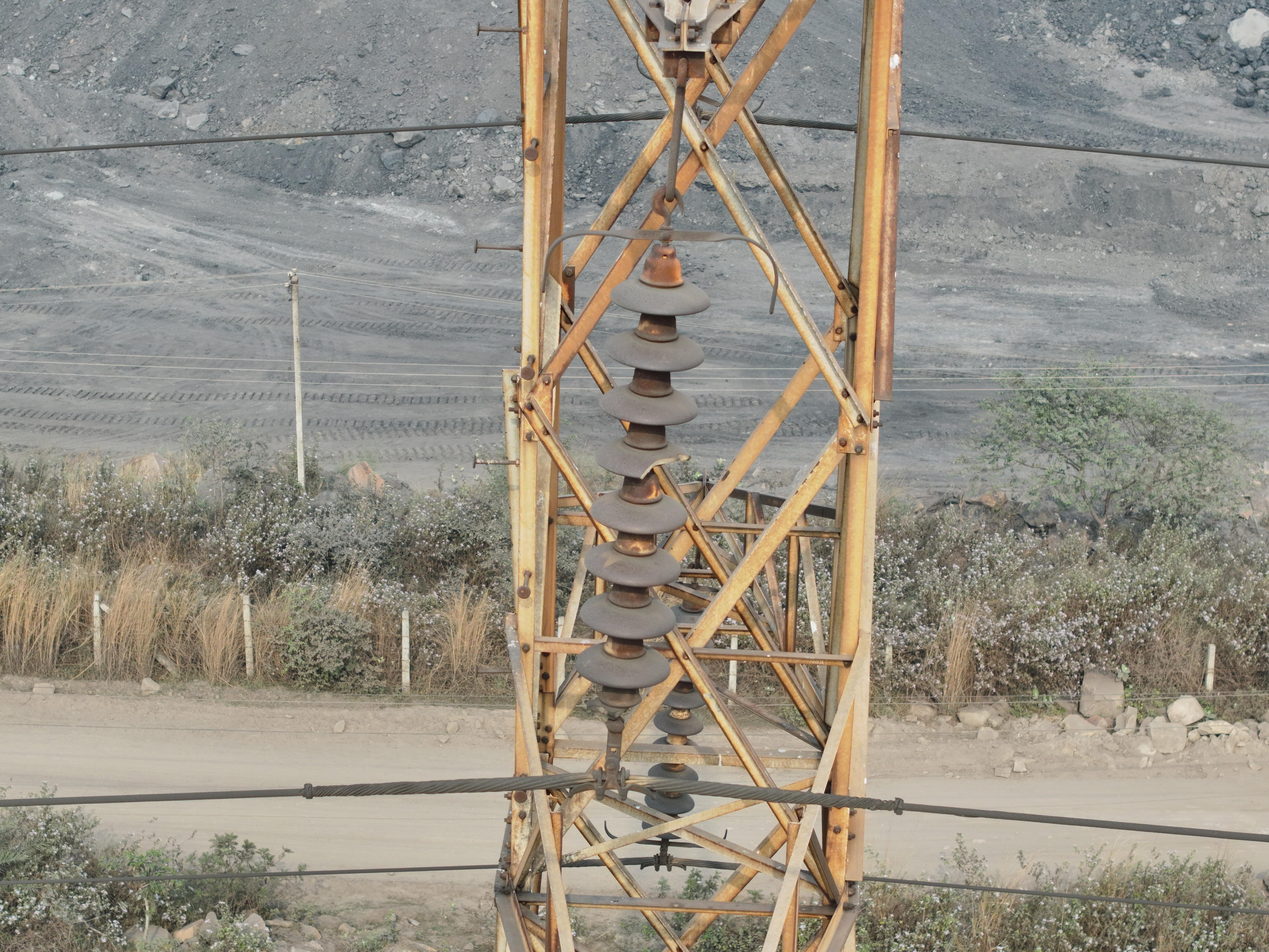broken_insulator: (589, 433, 709, 493)
